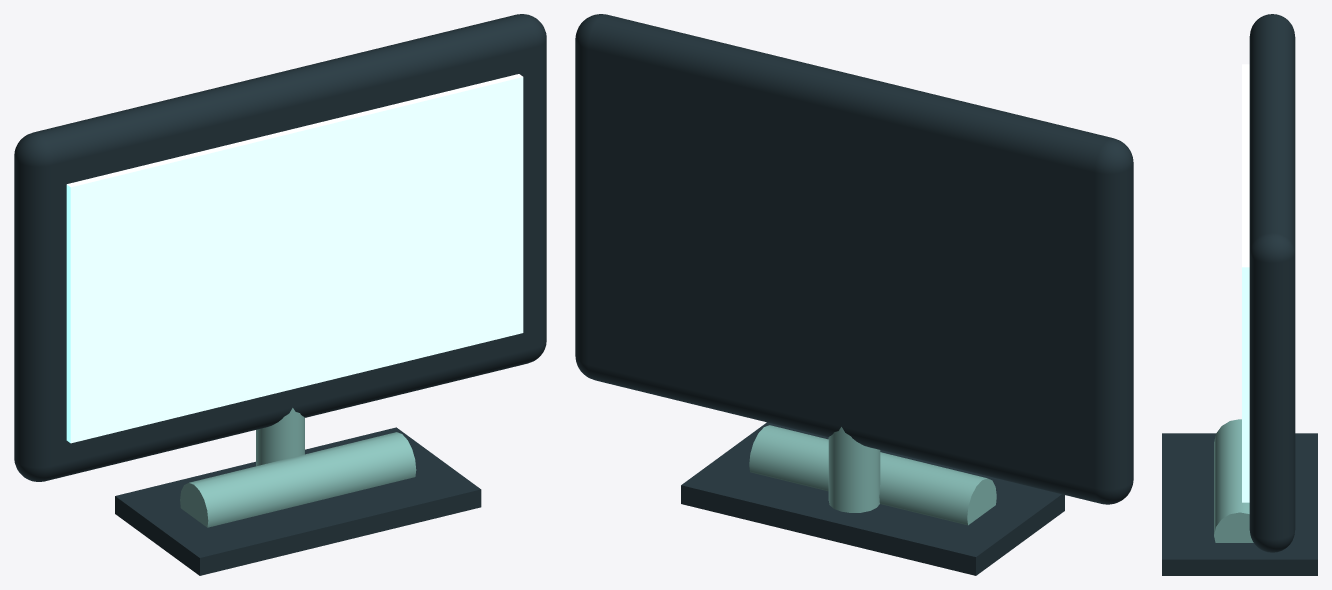
3 renders of one model, left to right at view 1: azimuth 30°, elevation 25°; view 2: azimuth 150°, elevation 25°; view 3: azimuth 270°, elevation 25°, orthographic. The views are drawn at different scales.
Visible parts, largest first — view 1: screen-surface, halo-bezel, crescent-foot, foot-rail, split-stem; view 2: halo-bezel, crescent-foot, foot-rail, split-stem; view 3: halo-bezel, crescent-foot, foot-rail, screen-surface.
Part boxes in pixels (x1=…): screen-surface: x1=66, y1=74, x2=523, y2=443; halo-bezel: x1=14, y1=14, x2=546, y2=481; crescent-foot: x1=115, y1=427, x2=481, y2=575; foot-rail: x1=180, y1=432, x2=416, y2=527; split-stem: x1=256, y1=408, x2=304, y2=466; halo-bezel: x1=575, y1=14, x2=1133, y2=504; crescent-foot: x1=681, y1=422, x2=1064, y2=575; foot-rail: x1=749, y1=425, x2=996, y2=525; split-stem: x1=828, y1=427, x2=880, y2=512; halo-bezel: x1=1249, y1=14, x2=1295, y2=552; crescent-foot: x1=1162, y1=433, x2=1317, y2=575; foot-rail: x1=1214, y1=419, x2=1253, y2=542; screen-surface: x1=1242, y1=64, x2=1249, y2=502.
Size of the model in its own units: 0.86 by 0.66 by 0.24.
